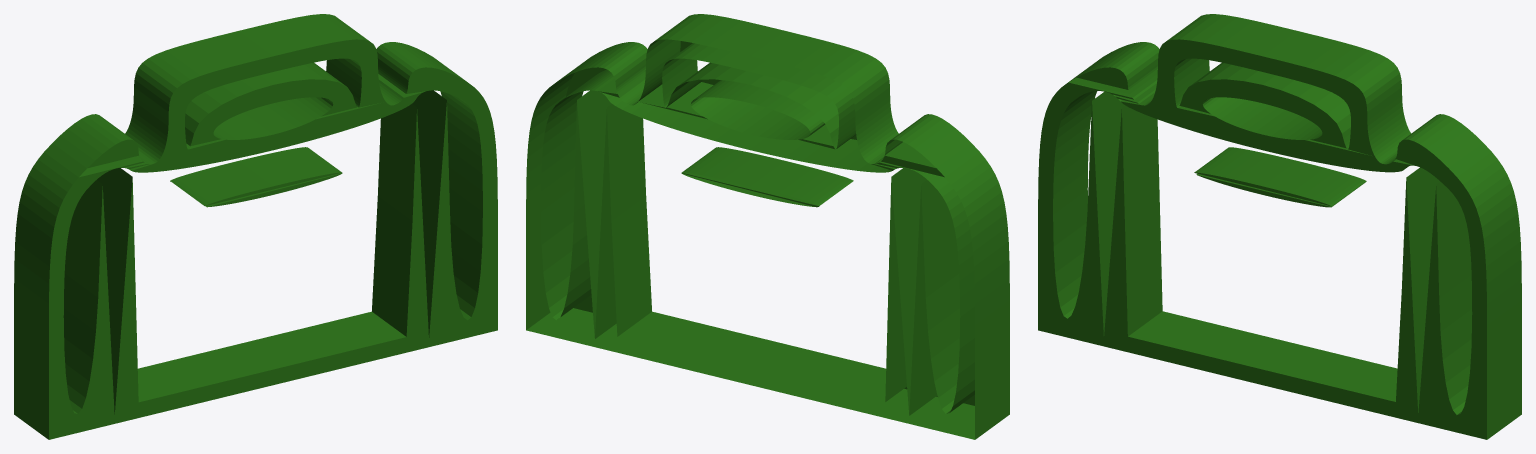
The model's file is briefcase.gltf.
The picture shows the model from 3 angles, left to right: view 1: azimuth 30°, elevation 25°; view 2: azimuth 150°, elevation 25°; view 3: azimuth 330°, elevation 25°; orthographic projection.
Parts seen in each view (by area): view 1: Curve.007, Curve.008; view 2: Curve.007, Curve.008; view 3: Curve.007, Curve.008.
Boxes of the visible parts, <box> form: Curve.007: <box>14,14,497,439</box>; Curve.008: <box>170,147,342,207</box>; Curve.007: <box>526,14,1009,439</box>; Curve.008: <box>681,147,853,207</box>; Curve.007: <box>1038,14,1521,439</box>; Curve.008: <box>1194,147,1366,207</box>.
Size of the model in its own units: 0.112 by 0.0784 by 0.015.
